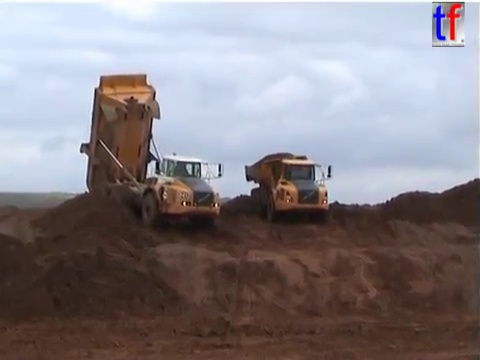truck: (78, 70, 225, 231), (243, 154, 333, 226)
